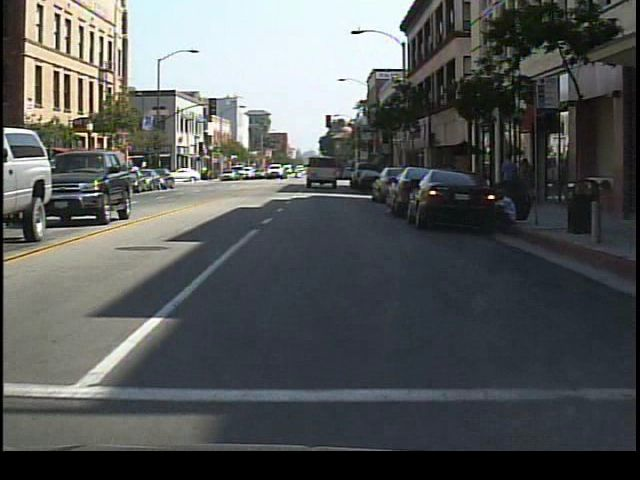person: (495, 145, 521, 211), (514, 153, 538, 209)
